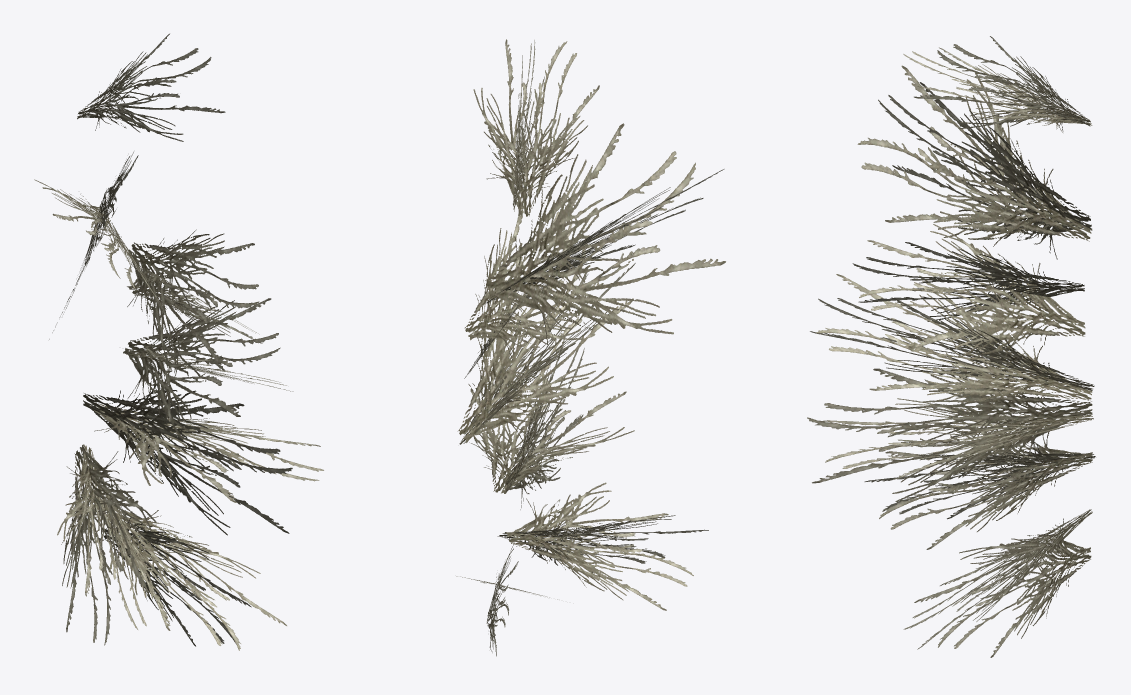
The model's file is tdr_h_fern_c.obj.
3 renders of one model, left to right at view 1: azimuth 30°, elevation 25°; view 2: azimuth 150°, elevation 25°; view 3: azimuth 270°, elevation 25°, orthographic. The views are drawn at different scales.
Visible parts, largest first — view 1: tdr_h_fern_c; view 2: tdr_h_fern_c; view 3: tdr_h_fern_c.
Part boxes in pixels (box(x1,y1,x2,y2)): tdr_h_fern_c: box(34, 33, 323, 650); tdr_h_fern_c: box(456, 39, 725, 656); tdr_h_fern_c: box(807, 36, 1095, 657).
Bounding box in the file's own units: 784 × 1543 × 711.
1 material, 1 textured.
